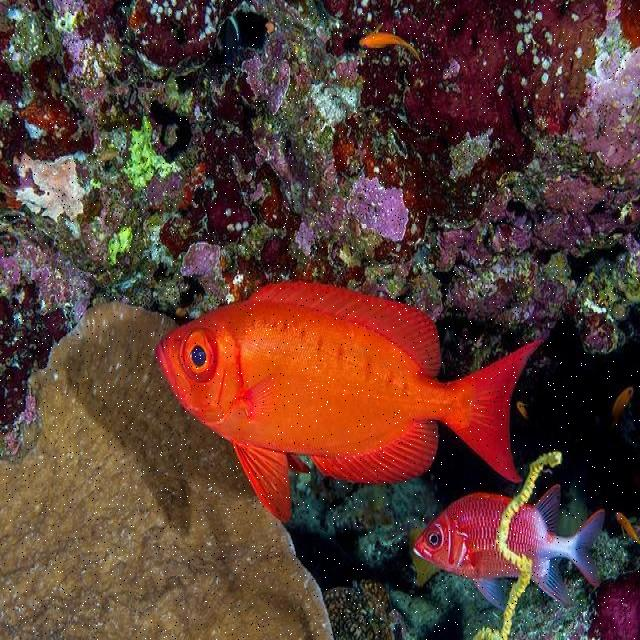fish: (157, 281, 543, 523), (415, 486, 606, 608)
sea-floor: (0, 302, 331, 639)
